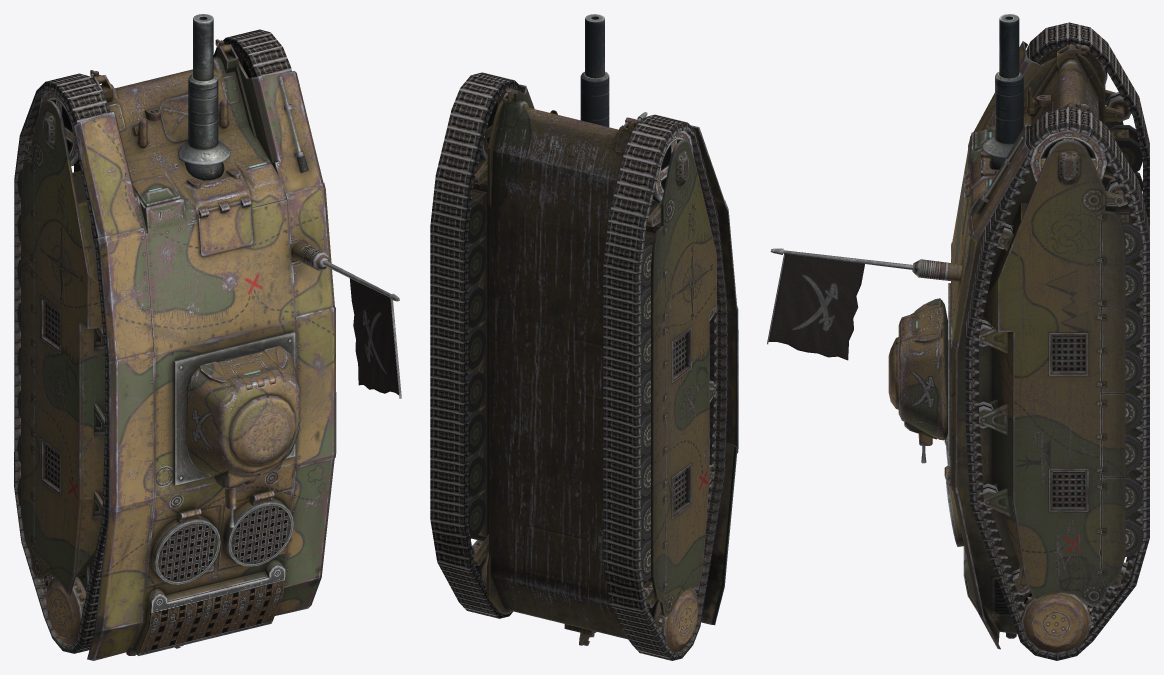
3 renders of one model, left to right at view 1: azimuth 30°, elevation 25°; view 2: azimuth 150°, elevation 25°; view 3: azimuth 270°, elevation 25°, orthographic. The views are drawn at different scales.
Visible parts, largest first — view 1: hull, chassis_track_L, F34_ARL_V39_BP_flag.sc2, gun_01_mask, chassis_track_R, chassis_wheel_L_12, gun_01, hull_hide_elements, chassis_wheel_L_01; view 2: hull, chassis_track_L, chassis_track_R, chassis_wheel_L_12, gun_01_mask, gun_01, hull_hide_elements, chassis_wheel_L_01, chassis_wheel_R_05, chassis_wheel_R_08, chassis_wheel_R_07, chassis_wheel_R_04 (+4 smaller); view 3: hull, chassis_track_R, F34_ARL_V39_BP_flag.sc2, chassis_track_L, chassis_wheel_R_12, gun_01_mask, hull_hide_elements, chassis_wheel_R_01, gun_01, chassis_wheel_L_03, chassis_wheel_R_03, chassis_wheel_R_05 (+6 smaller).
Boxes of the visible parts, left/top/right/bottom form: hull: left=21, top=39, right=401, bottom=660; chassis_track_L: left=14, top=73, right=110, bottom=653; F34_ARL_V39_BP_flag.sc2: left=349, top=278, right=398, bottom=394; gun_01_mask: left=178, top=74, right=230, bottom=180; chassis_track_R: left=213, top=29, right=297, bottom=261; chassis_wheel_L_12: left=46, top=576, right=86, bottom=645; gun_01: left=193, top=14, right=213, bottom=81; hull_hide_elements: left=45, top=302, right=59, bottom=488; chassis_wheel_L_01: left=38, top=90, right=79, bottom=165; hull: left=468, top=84, right=738, bottom=645; chassis_track_L: left=603, top=114, right=727, bottom=660; chassis_track_R: left=430, top=72, right=523, bottom=618; chassis_wheel_L_12: left=645, top=582, right=698, bottom=652; gun_01_mask: left=580, top=71, right=609, bottom=127; gun_01: left=585, top=14, right=604, bottom=78; hull_hide_elements: left=673, top=333, right=686, bottom=511; chassis_wheel_L_01: left=652, top=130, right=693, bottom=202; chassis_wheel_R_05: left=468, top=285, right=486, bottom=328; chassis_wheel_R_08: left=468, top=412, right=486, bottom=454; chassis_wheel_R_07: left=468, top=370, right=486, bottom=412; chassis_wheel_R_04: left=468, top=243, right=486, bottom=285; hull: left=767, top=41, right=1128, bottom=649; chassis_track_R: left=965, top=107, right=1149, bottom=660; F34_ARL_V39_BP_flag.sc2: left=768, top=254, right=864, bottom=360; chassis_track_L: left=1026, top=22, right=1149, bottom=226; chassis_wheel_R_12: left=1018, top=591, right=1094, bottom=653; gun_01_mask: left=983, top=72, right=1023, bottom=169; hull_hide_elements: left=1052, top=335, right=1085, bottom=506; chassis_wheel_R_01: left=1030, top=130, right=1107, bottom=181; gun_01: left=999, top=14, right=1019, bottom=78; chassis_wheel_L_03: left=1105, top=125, right=1142, bottom=174; chassis_wheel_R_03: left=1113, top=209, right=1142, bottom=261; chassis_wheel_R_05: left=1125, top=299, right=1142, bottom=346.
Size of the model in its own units: 2.47 by 6.43 by 3.64.
2 materials, 2 textured.
